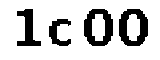0: (119, 5, 150, 49), (84, 7, 115, 50)
1: (13, 7, 42, 52)
c: (46, 17, 76, 49)
